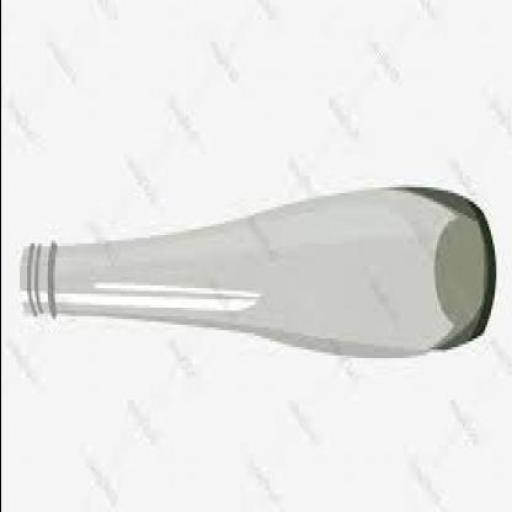glass: (14, 193, 494, 356)
